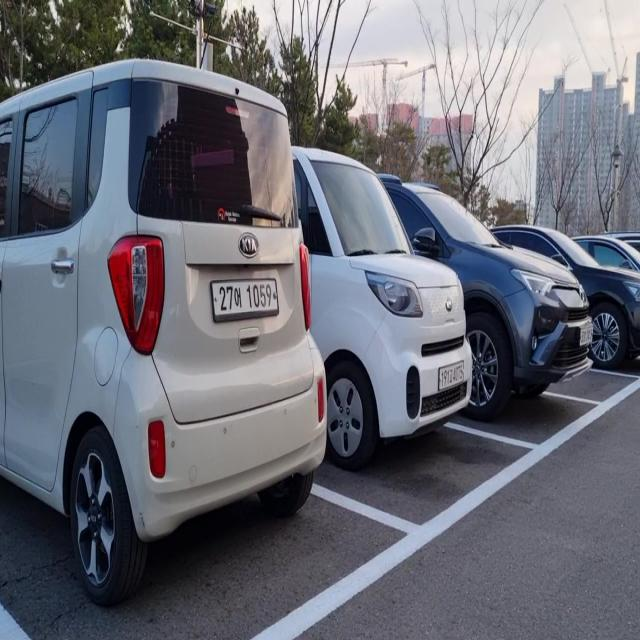occupied: (0, 89, 402, 640), (275, 184, 534, 543), (465, 245, 604, 468)
